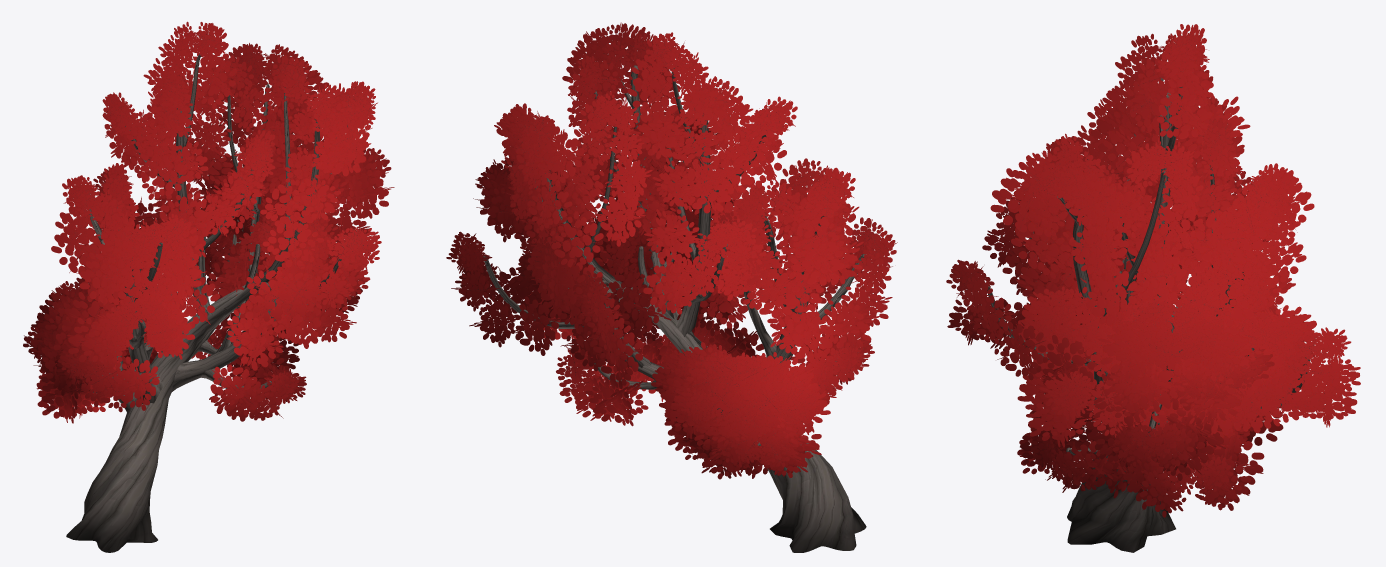
File: TwistedTree_1.glb
The picture shows the model from 3 angles, left to right: view 1: azimuth 30°, elevation 25°; view 2: azimuth 150°, elevation 25°; view 3: azimuth 270°, elevation 25°; orthographic projection. The views are drawn at different scales.
Visible parts, largest first — view 1: TwistedTree_1; view 2: TwistedTree_1; view 3: TwistedTree_1.
Boxes of the visible parts, <box> form: TwistedTree_1: <box>23,21,394,552</box>; TwistedTree_1: <box>446,22,897,552</box>; TwistedTree_1: <box>946,24,1360,552</box>.
Size of the model in its own units: 13.52 by 16.73 by 11.55.
Materials: 2 (2 with a texture image).
